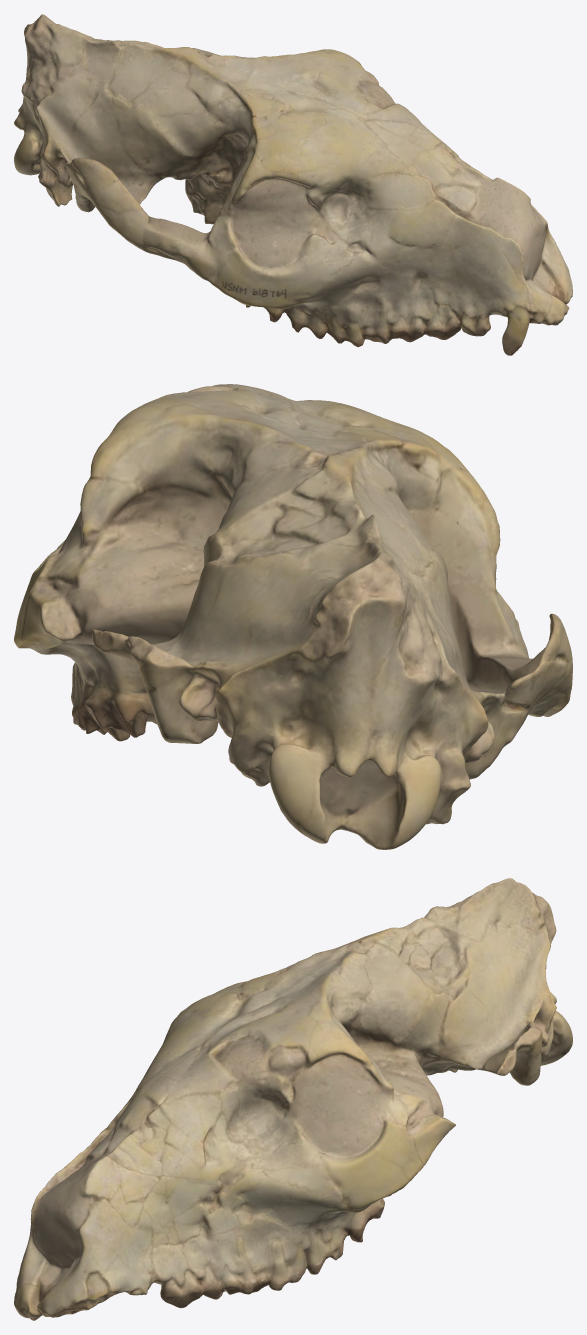
3 views of the same model, one above another, from view 1: azimuth 30°, elevation 25°; view 2: azimuth 150°, elevation 25°; view 3: azimuth 270°, elevation 25° (orthographic). The views are drawn at different scales.
Visible parts, largest first — view 1: Merycoidodon_sp-unwrapped-webmulti; view 2: Merycoidodon_sp-unwrapped-webmulti; view 3: Merycoidodon_sp-unwrapped-webmulti.
Boxes of the visible parts, x1=… form: Merycoidodon_sp-unwrapped-webmulti: x1=14, y1=14, x2=572, y2=355; Merycoidodon_sp-unwrapped-webmulti: x1=14, y1=384, x2=572, y2=849; Merycoidodon_sp-unwrapped-webmulti: x1=14, y1=878, x2=572, y2=1320.
Bounding box in the file's own units: 4470 × 2935 × 4972.
1 material, 1 textured.
